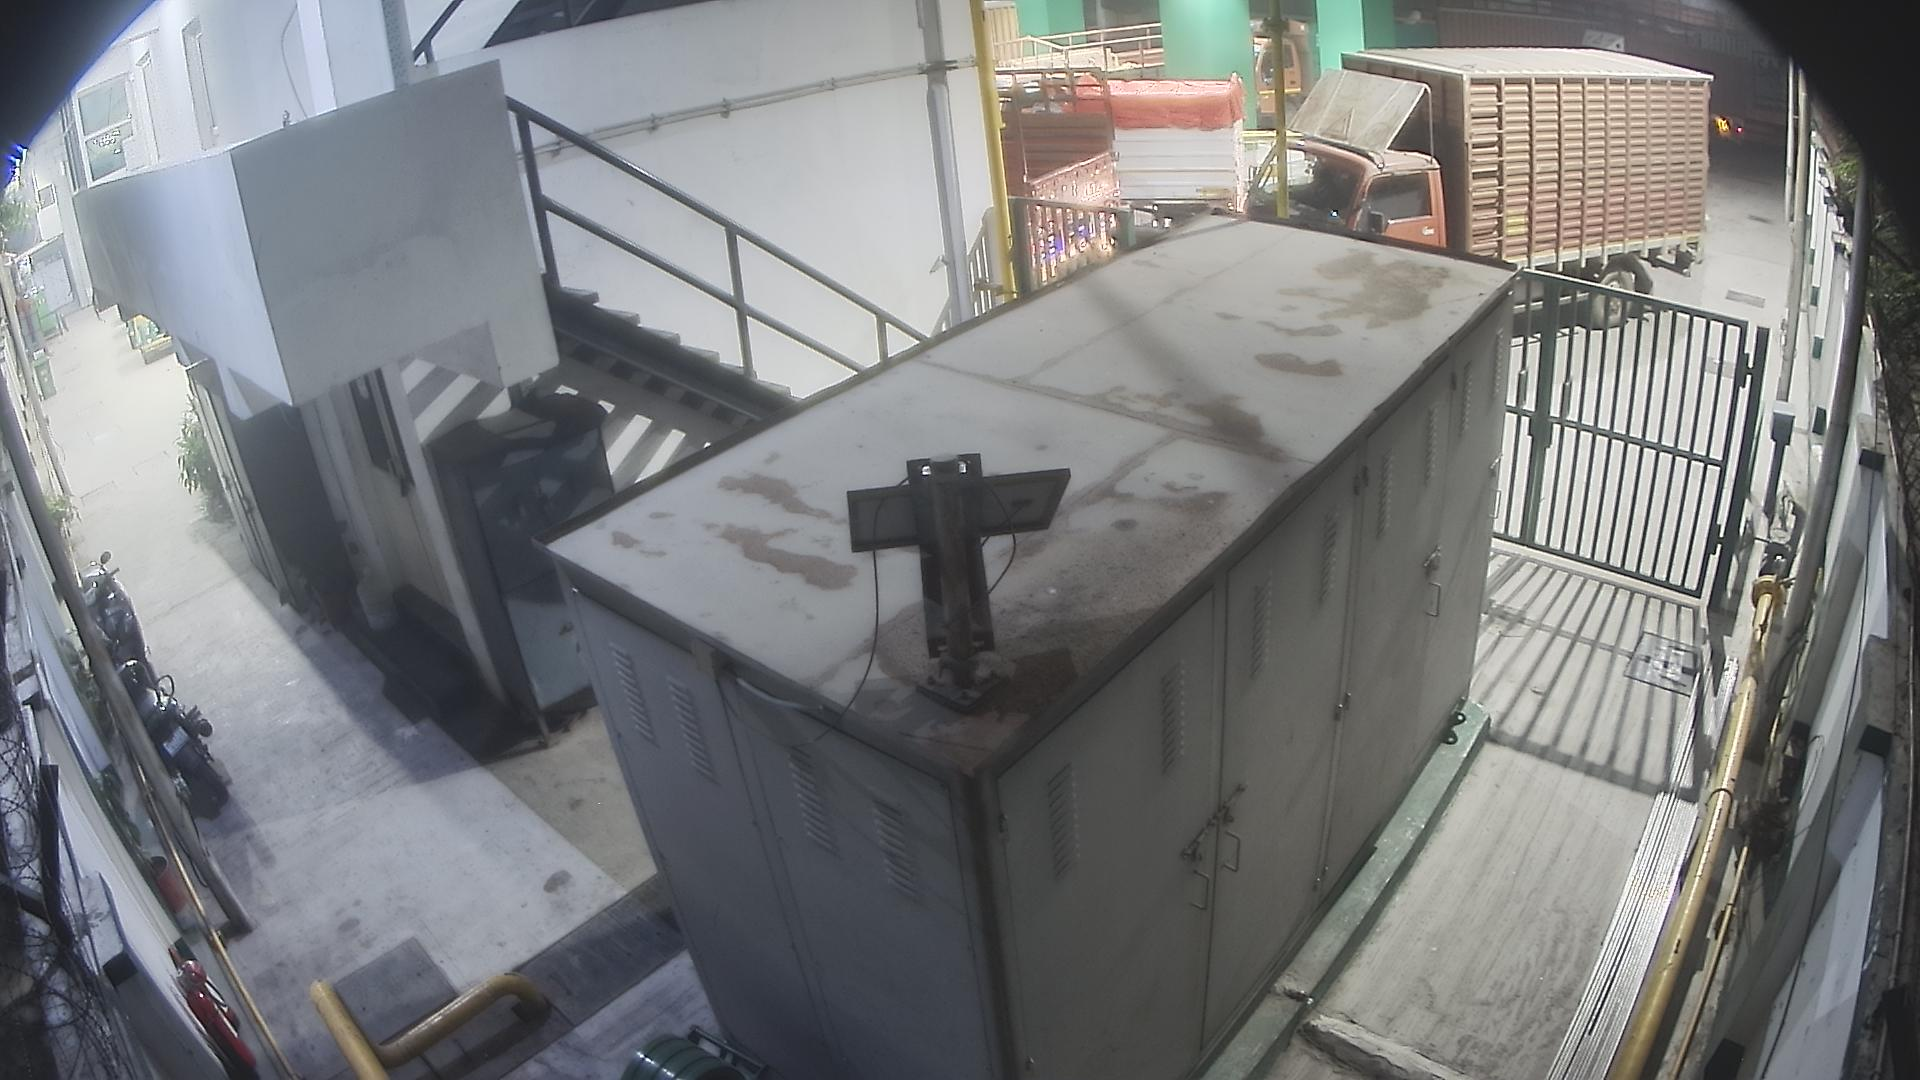Auto: (104, 266, 199, 392)
Bike: (91, 593, 251, 848), (69, 535, 156, 713)
HMV: (1228, 26, 1725, 353), (957, 44, 1271, 276), (940, 38, 1138, 334), (1610, 1, 1822, 170), (975, 5, 1183, 156), (1369, 3, 1648, 73), (1237, 1, 1348, 146)
